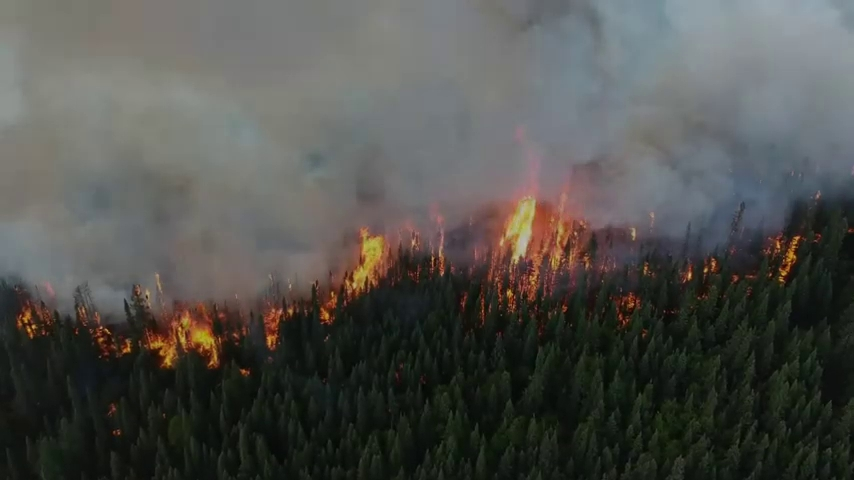forest_fire: (488, 195, 592, 306), (319, 228, 390, 323), (142, 306, 220, 367), (262, 306, 295, 348), (771, 237, 801, 282), (93, 324, 130, 352), (17, 306, 35, 337), (431, 241, 446, 272)
